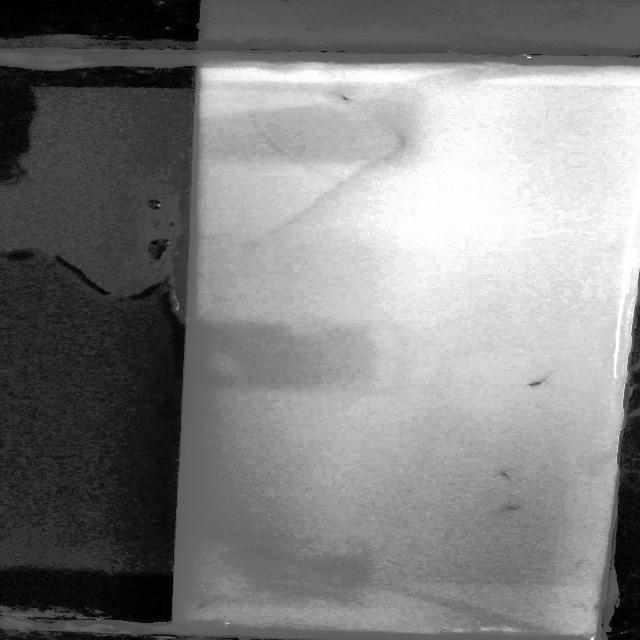shrimp: (518, 373, 552, 391), (495, 500, 529, 517), (327, 91, 356, 105), (491, 469, 516, 484)
